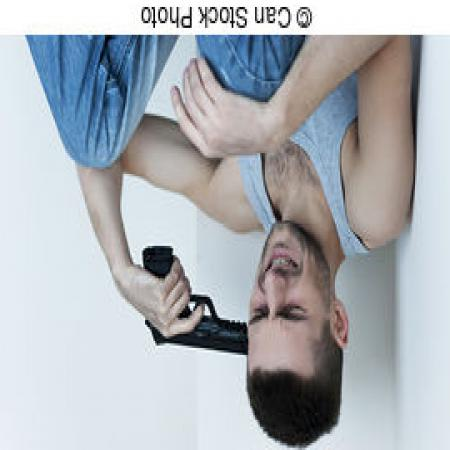Pistol: (146, 248, 252, 364)
